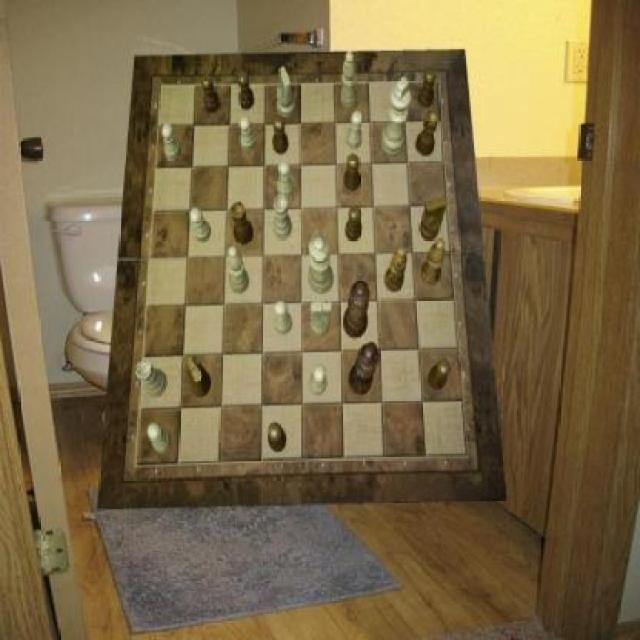bishop: (420, 239, 445, 286), (384, 246, 408, 292)
black-bishop: (349, 342, 380, 396)
black-king: (420, 197, 448, 241), (186, 357, 211, 398)
black-knight: (202, 75, 220, 114), (238, 71, 256, 109), (428, 360, 450, 391), (344, 154, 362, 191), (419, 69, 436, 108), (272, 117, 288, 155), (346, 206, 363, 241), (268, 422, 287, 452)
black-pawn: (343, 280, 370, 338)
black-queen: (417, 111, 440, 156), (231, 201, 254, 244)
black-rook: (226, 246, 249, 294), (340, 51, 358, 108)
white-bishop: (382, 77, 412, 157)
white-king: (277, 68, 296, 119), (309, 302, 332, 336)
white-knight: (189, 208, 212, 242), (148, 423, 172, 454), (162, 123, 180, 161), (346, 111, 363, 149), (277, 162, 294, 199), (240, 115, 257, 152), (274, 300, 291, 335), (309, 364, 327, 396)
white-pawn: (308, 234, 334, 294)
white-queen: (137, 360, 169, 398), (272, 195, 292, 241)
